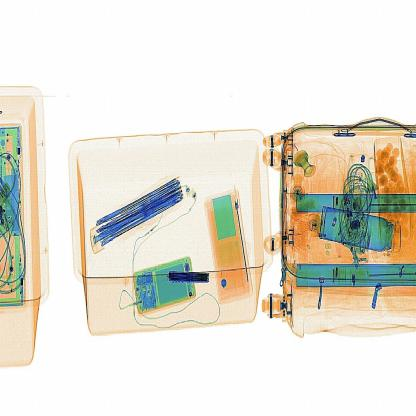scissors: (168, 271, 212, 286)
